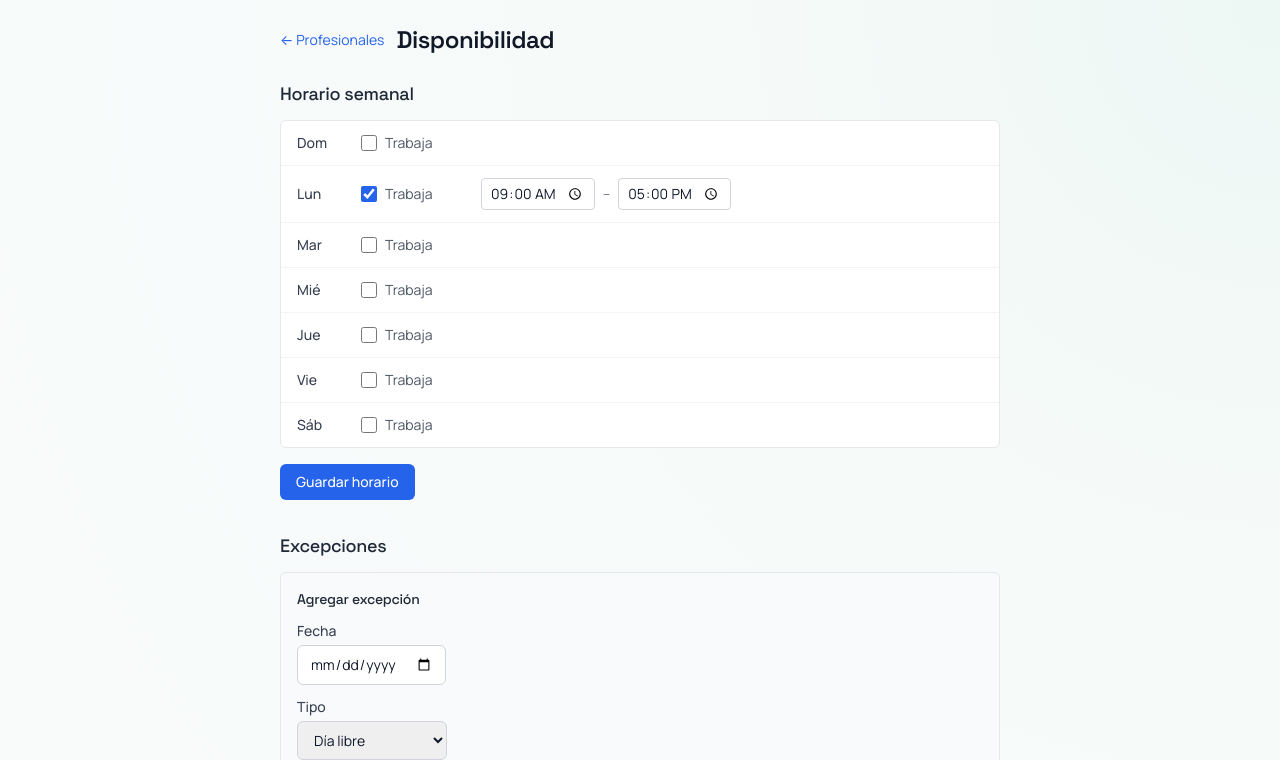
Test: StaffAvailabilityPage › shows error message when save fails
The width and height of the screenshot is (1280, 760).
Click the button "Guardar horario".
click(347, 482)  # box [280, 464, 415, 500]
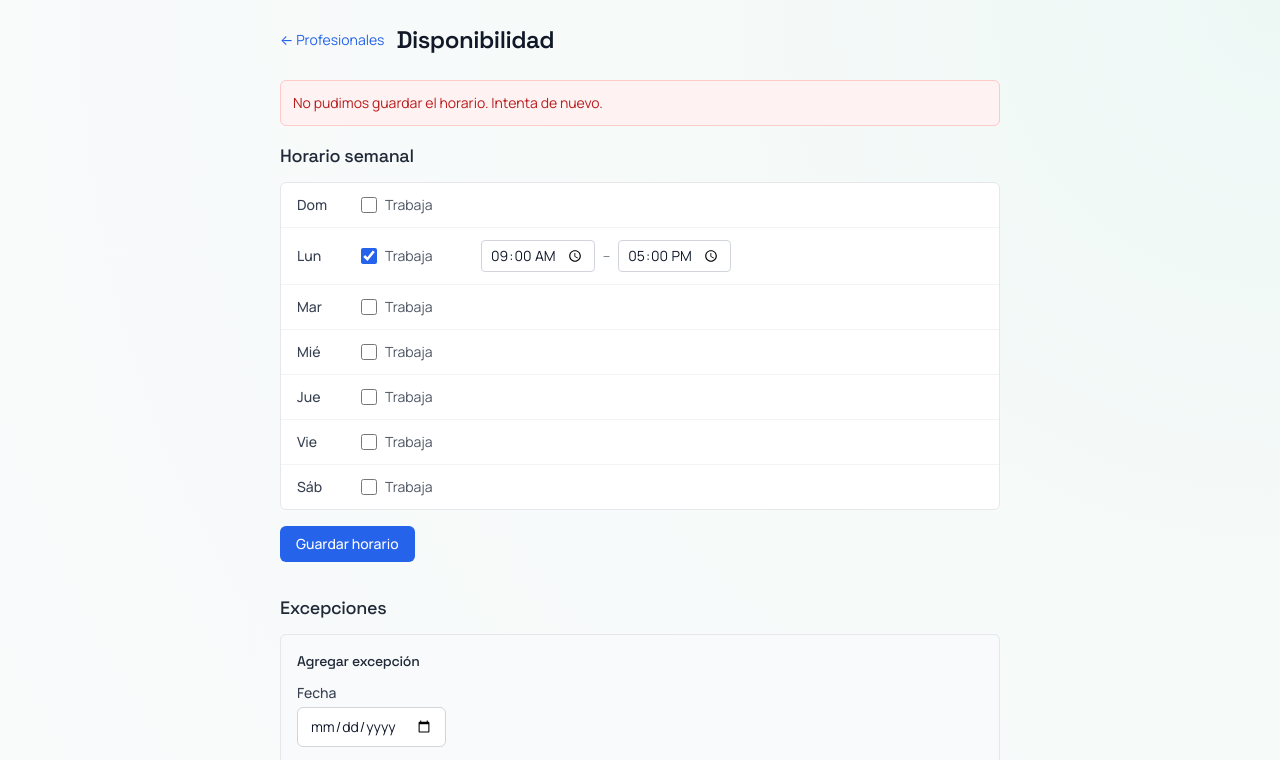
Expected: the text "No pudimos guardar el horario. Intenta de nuevo." is shown, [280, 80, 1000, 126]
